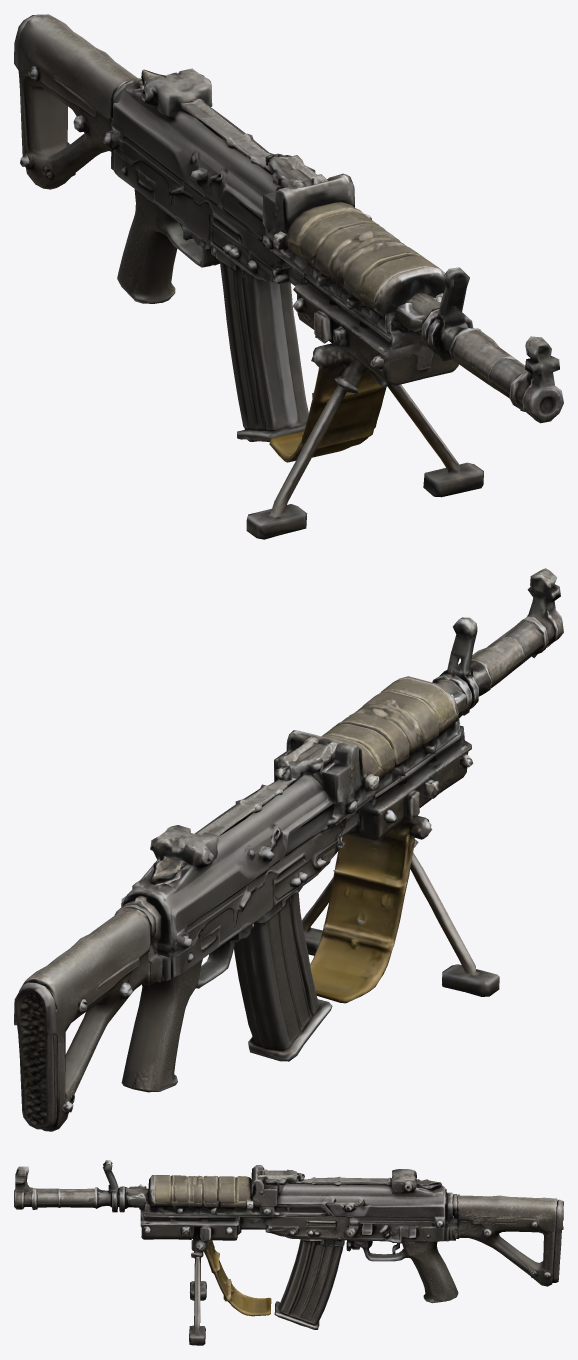
Rendered from w_pkp.glb.
The picture shows the model from 3 angles, top to bottom: view 1: azimuth 30°, elevation 25°; view 2: azimuth 150°, elevation 25°; view 3: azimuth 270°, elevation 25°; orthographic projection. The views are drawn at different scales.
Parts seen in each view (by area): view 1: tripo_node_7f3f837c-33c9-4651-ab9c-d942be268d74; view 2: tripo_node_7f3f837c-33c9-4651-ab9c-d942be268d74; view 3: tripo_node_7f3f837c-33c9-4651-ab9c-d942be268d74.
Boxes of the visible parts, left/top/right/bottom form: tripo_node_7f3f837c-33c9-4651-ab9c-d942be268d74: left=14, top=14, right=563, bottom=539; tripo_node_7f3f837c-33c9-4651-ab9c-d942be268d74: left=14, top=568, right=563, bottom=1131; tripo_node_7f3f837c-33c9-4651-ab9c-d942be268d74: left=14, top=1160, right=563, bottom=1345.
Bounding box in the file's own units: 0.2341 × 0.3102 × 0.9472.
1 material, 1 textured.
